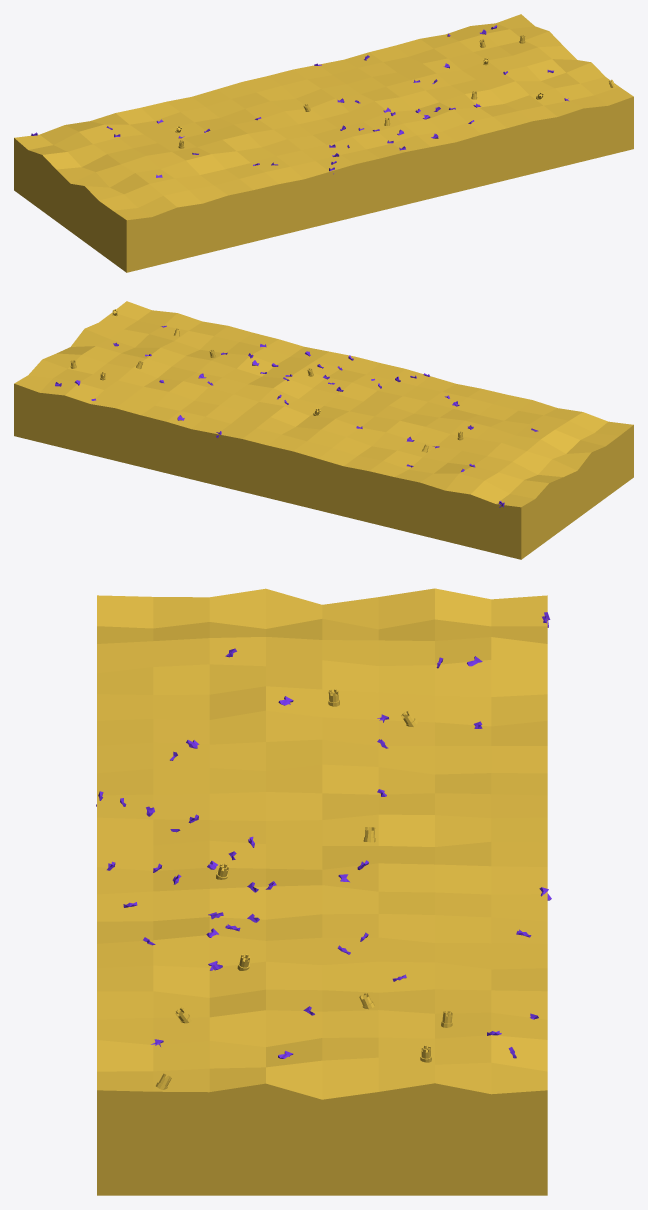
Rendered from GroundWorld 2.fbx.
3 views of the same model, one above another, from view 1: azimuth 30°, elevation 25°; view 2: azimuth 150°, elevation 25°; view 3: azimuth 270°, elevation 25° (orthographic). The views are drawn at different scales.
Visible parts, largest first — view 1: 1; view 2: 1; view 3: 1.
Boxes of the visible parts, x1=… form: 1: x1=14, y1=14, x2=633, y2=272; 1: x1=14, y1=301, x2=633, y2=559; 1: x1=97, y1=588, x2=547, y2=1195.
Size of the model in its own units: 1966 by 5050 by 586.
